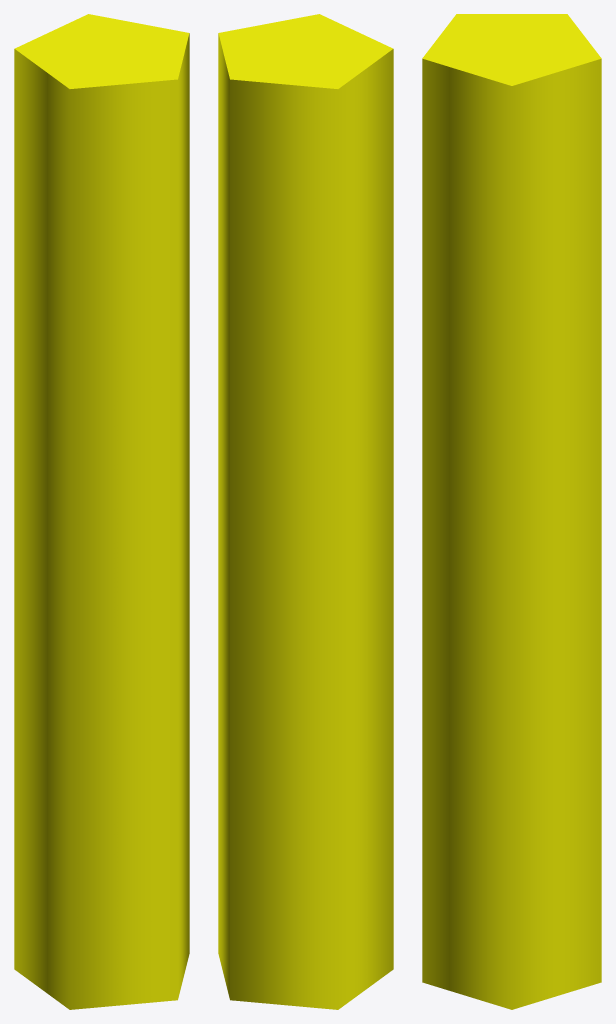
The model's file is pilar4.FBX.
3 renders of one model, left to right at view 1: azimuth 30°, elevation 25°; view 2: azimuth 150°, elevation 25°; view 3: azimuth 270°, elevation 25°, orthographic.
Visible parts, largest first — view 1: Cylinder002; view 2: Cylinder002; view 3: Cylinder002.
Boxes of the visible parts, x1,y1,x2,y2 form: Cylinder002: [14, 14, 189, 1009]; Cylinder002: [218, 14, 393, 1009]; Cylinder002: [422, 14, 601, 1009].
Bounding box in the file's own units: 4.52 × 27 × 4.76.
